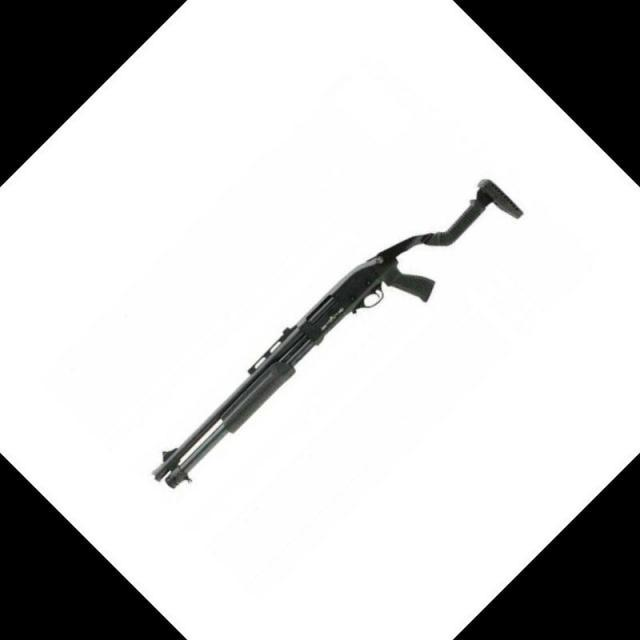weapon: (149, 179, 526, 492)
